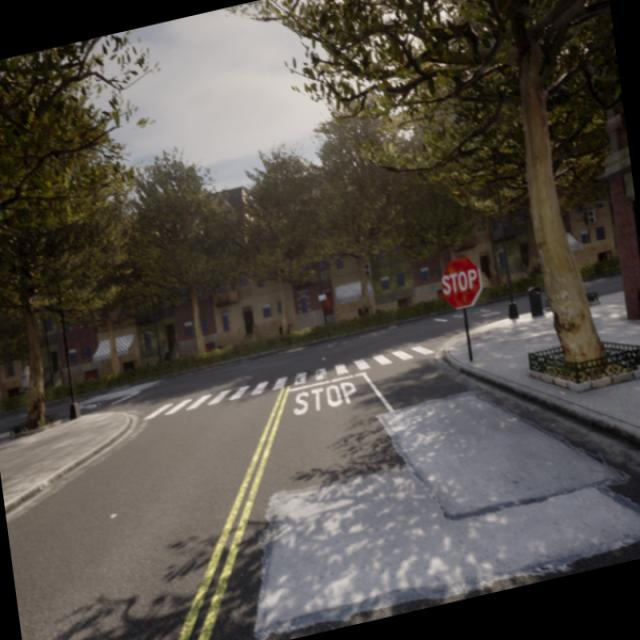stop sign: (438, 253, 484, 310), (441, 266, 478, 296)
